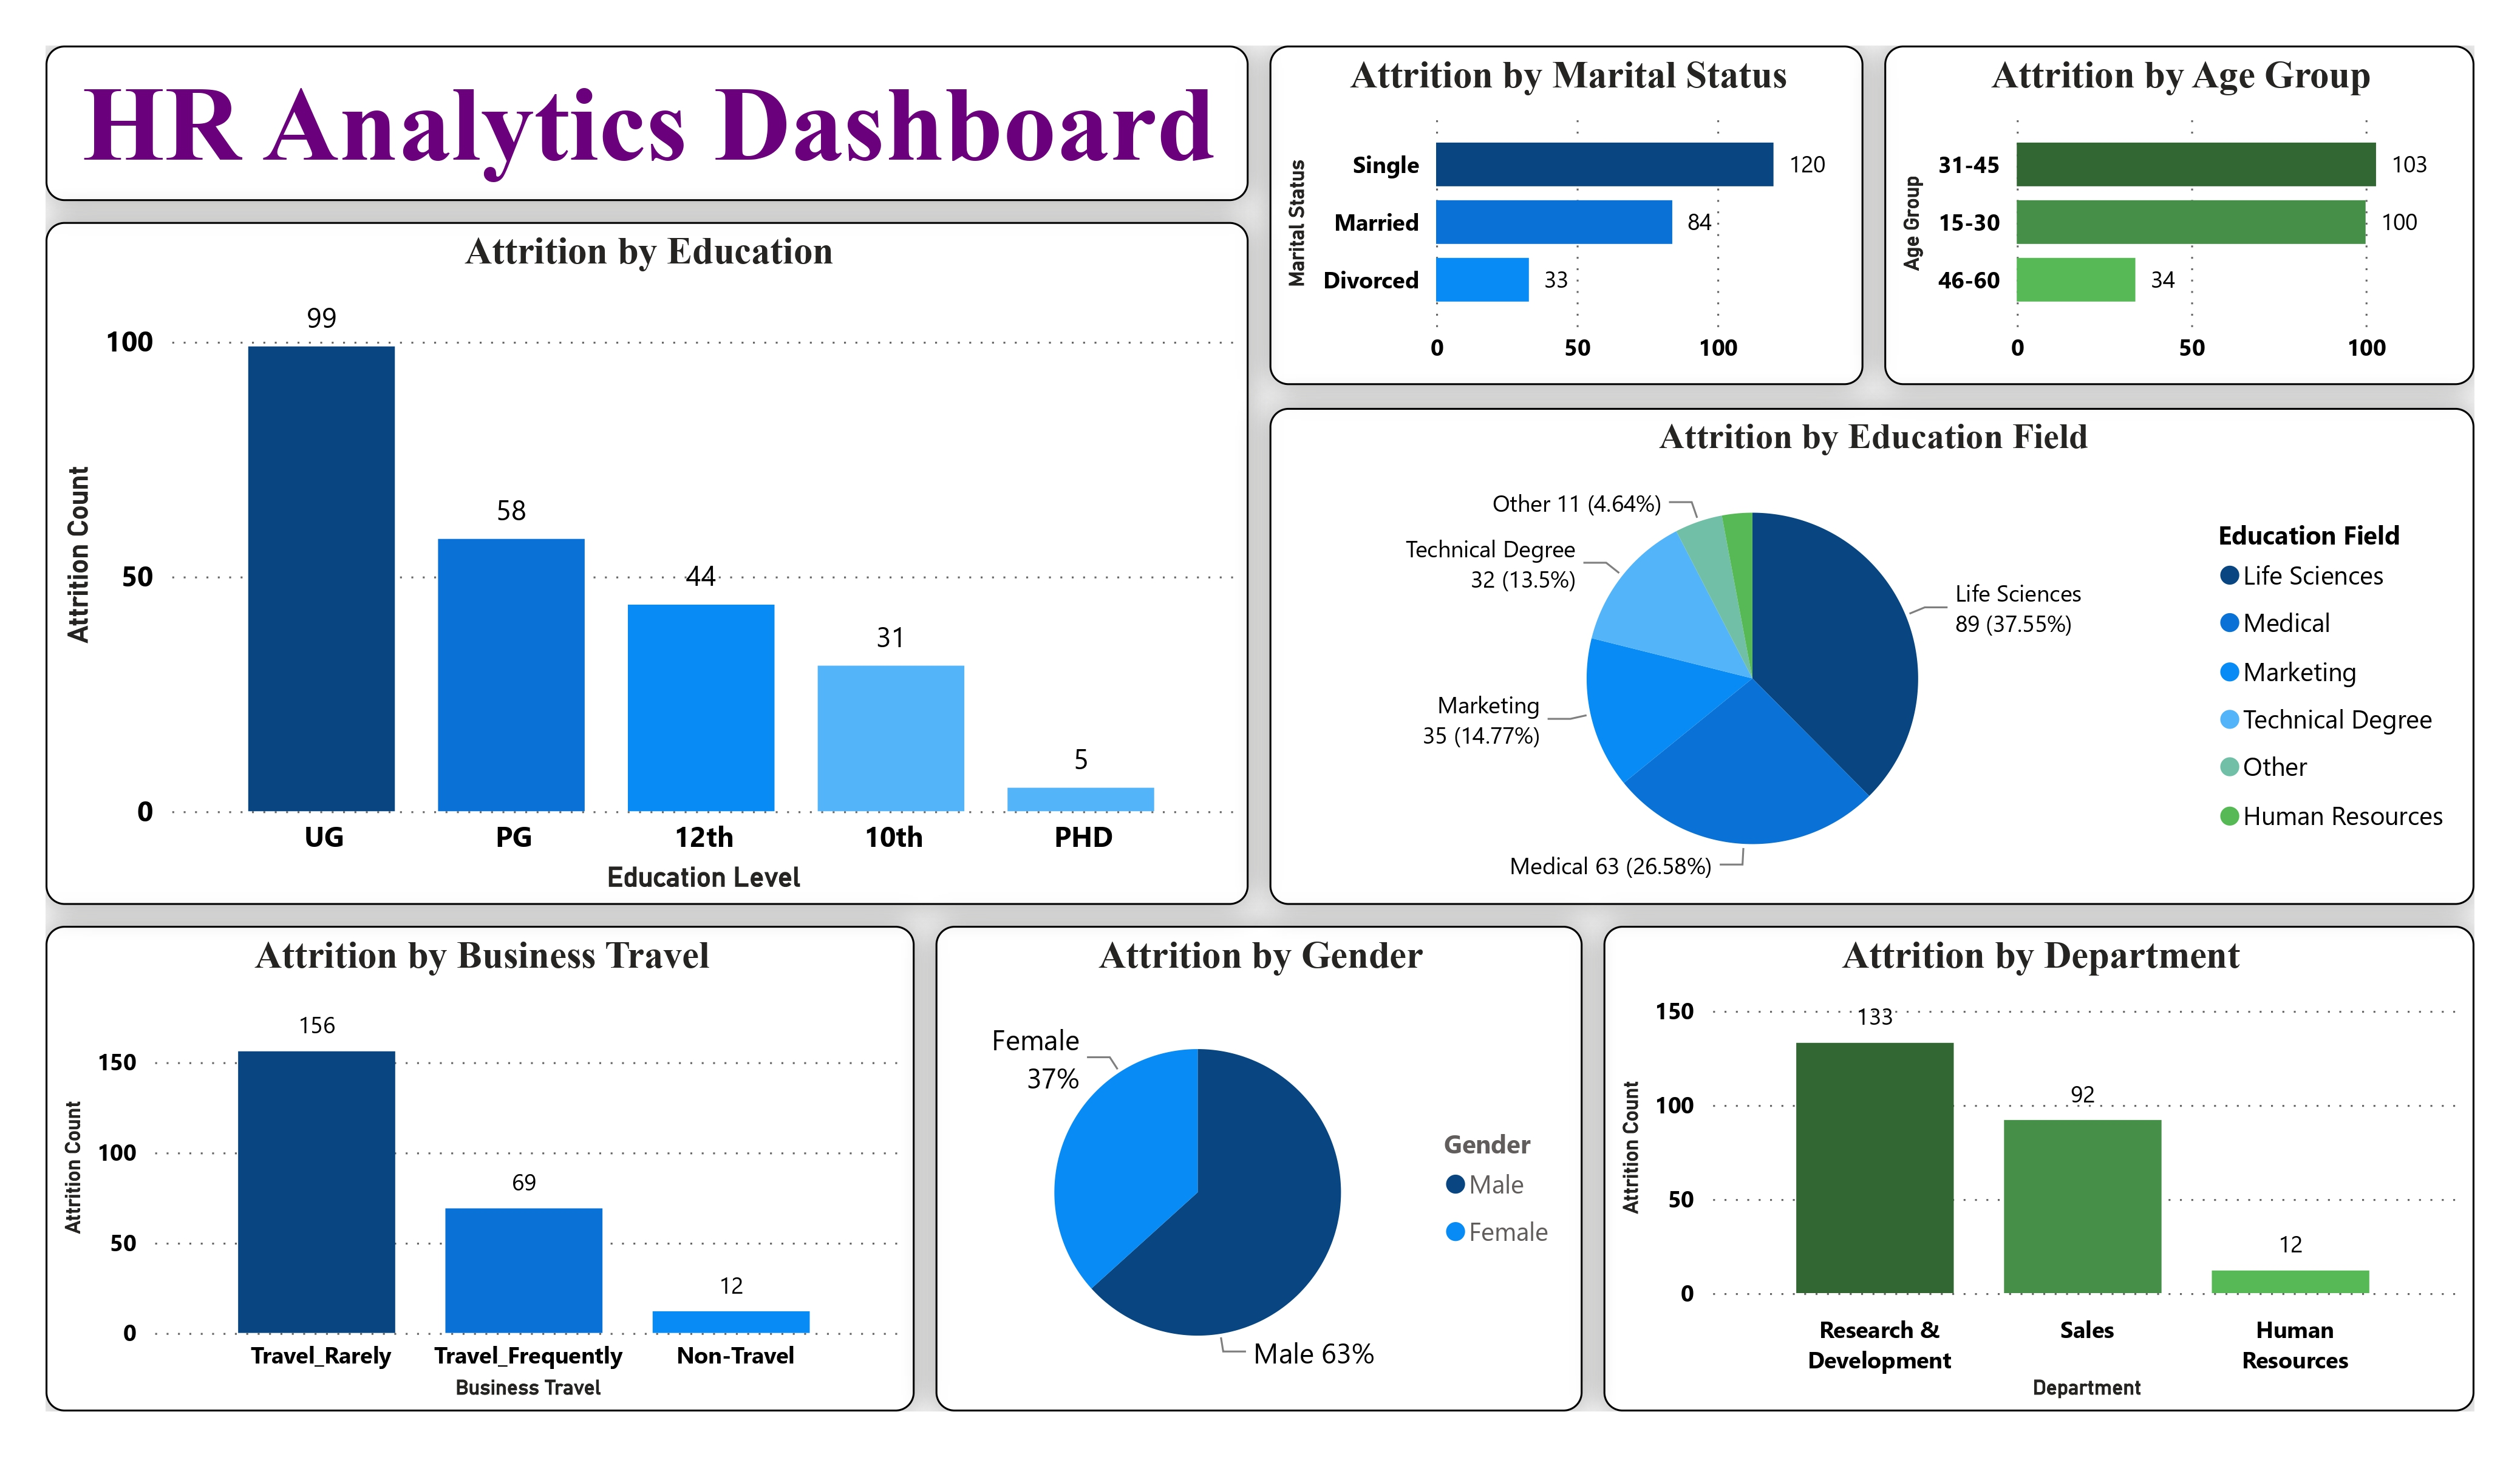

Layout of this report page (visuals, bound fields, positions):
{"tool":"powerbi","page":{"name":"Page-1","canvas":[1280,720],"ordinal":0},"visuals":[{"type":"clusteredBarChart","title":"Attrition by Marital Status","fields":{"Category":["Dataset.Marital Status"],"Y":["CountNonNull(Dataset.Attrition)"]},"box":[645.3,0,312.3,179.4],"z":0},{"type":"clusteredBarChart","title":"Attrition by Age Group","fields":{"Y":["CountNonNull(Dataset.Attrition)"],"Category":["Dataset.Age Group"]},"box":[969.2,0,311,179.4],"z":1000},{"type":"clusteredColumnChart","title":"Attrition by Department","fields":{"Y":["CountNonNull(Dataset.Attrition)"],"Category":["Dataset.Department"]},"box":[820.6,463.8,459.7,256.6],"z":2000},{"type":"clusteredColumnChart","title":"Attrition by Business Travel","fields":{"Category":["Dataset.Business Travel"],"Y":["CountNonNull(Dataset.Attrition)"]},"box":[0,463.8,458.3,256.6],"z":3000},{"type":"pieChart","title":"Attrition by Gender","fields":{"Category":["Dataset.Gender"],"Y":["CountNonNull(Dataset.Attrition)"]},"box":[469.3,463.8,340.3,256.6],"z":4000},{"type":"textbox","box":[0,0,634,82.3],"z":5000},{"type":"clusteredColumnChart","title":"Attrition by Education","fields":{"Category":["Dataset.Education"],"Y":["CountNonNull(Dataset.Attrition)"]},"box":[0,93.3,634,359.5],"z":6000},{"type":"pieChart","title":"Attrition by Education Field","fields":{"Category":["Dataset.Education Field"],"Y":["CountNonNull(Dataset.Attrition)"]},"box":[645.3,191,635,262],"z":7000}]}

Visuals, with their boxes in screenshot pixels (x1, y1, x2, y2):
"Attrition by Marital Status" clusteredBarChart: (1270,46,1862,386)
"Attrition by Age Group" clusteredBarChart: (1885,46,2474,386)
"Attrition by Department" clusteredColumnChart: (1602,925,2474,1411)
"Attrition by Business Travel" clusteredColumnChart: (46,925,915,1411)
"Attrition by Gender" pieChart: (936,925,1582,1411)
textbox: (46,46,1248,202)
"Attrition by Education" clusteredColumnChart: (46,223,1248,905)
"Attrition by Education Field" pieChart: (1270,408,2474,905)
